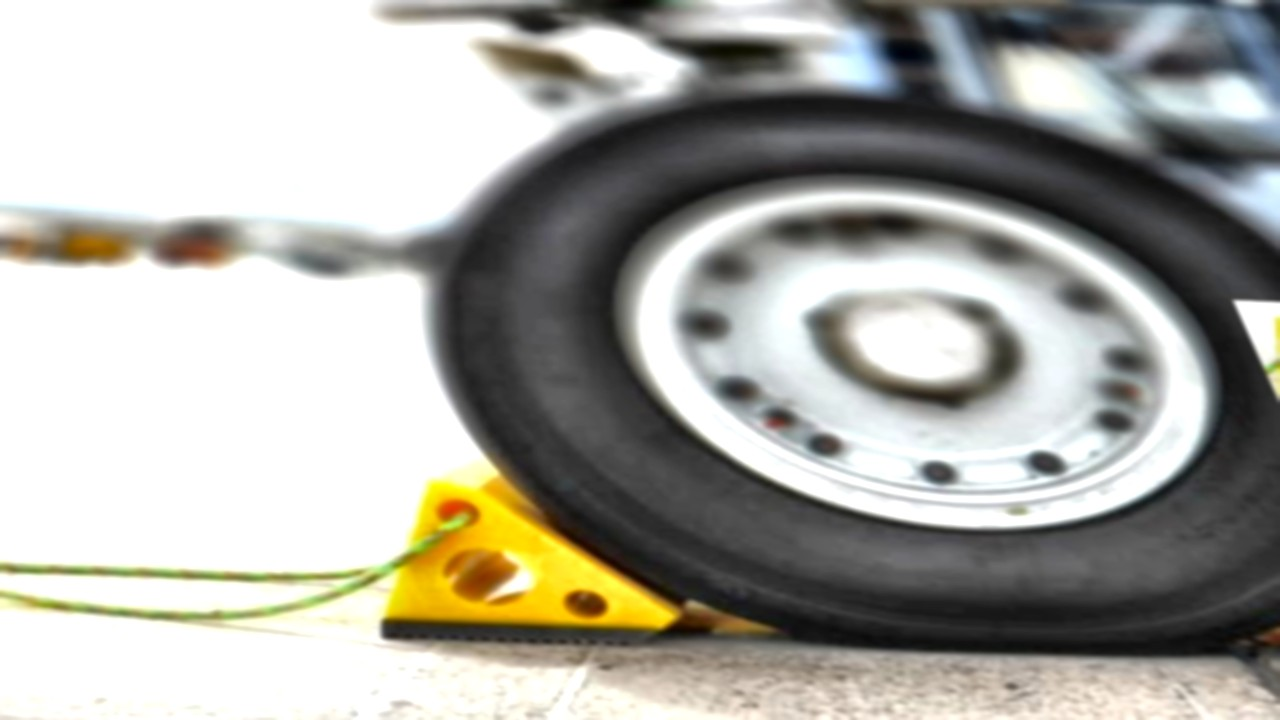chock: (370, 450, 709, 649)
wheel: (422, 75, 1280, 670)
